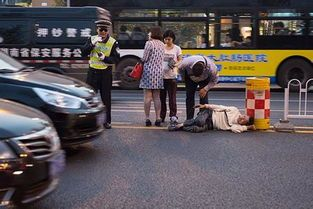10+: (74, 2, 307, 135)
down: (162, 97, 260, 135)
